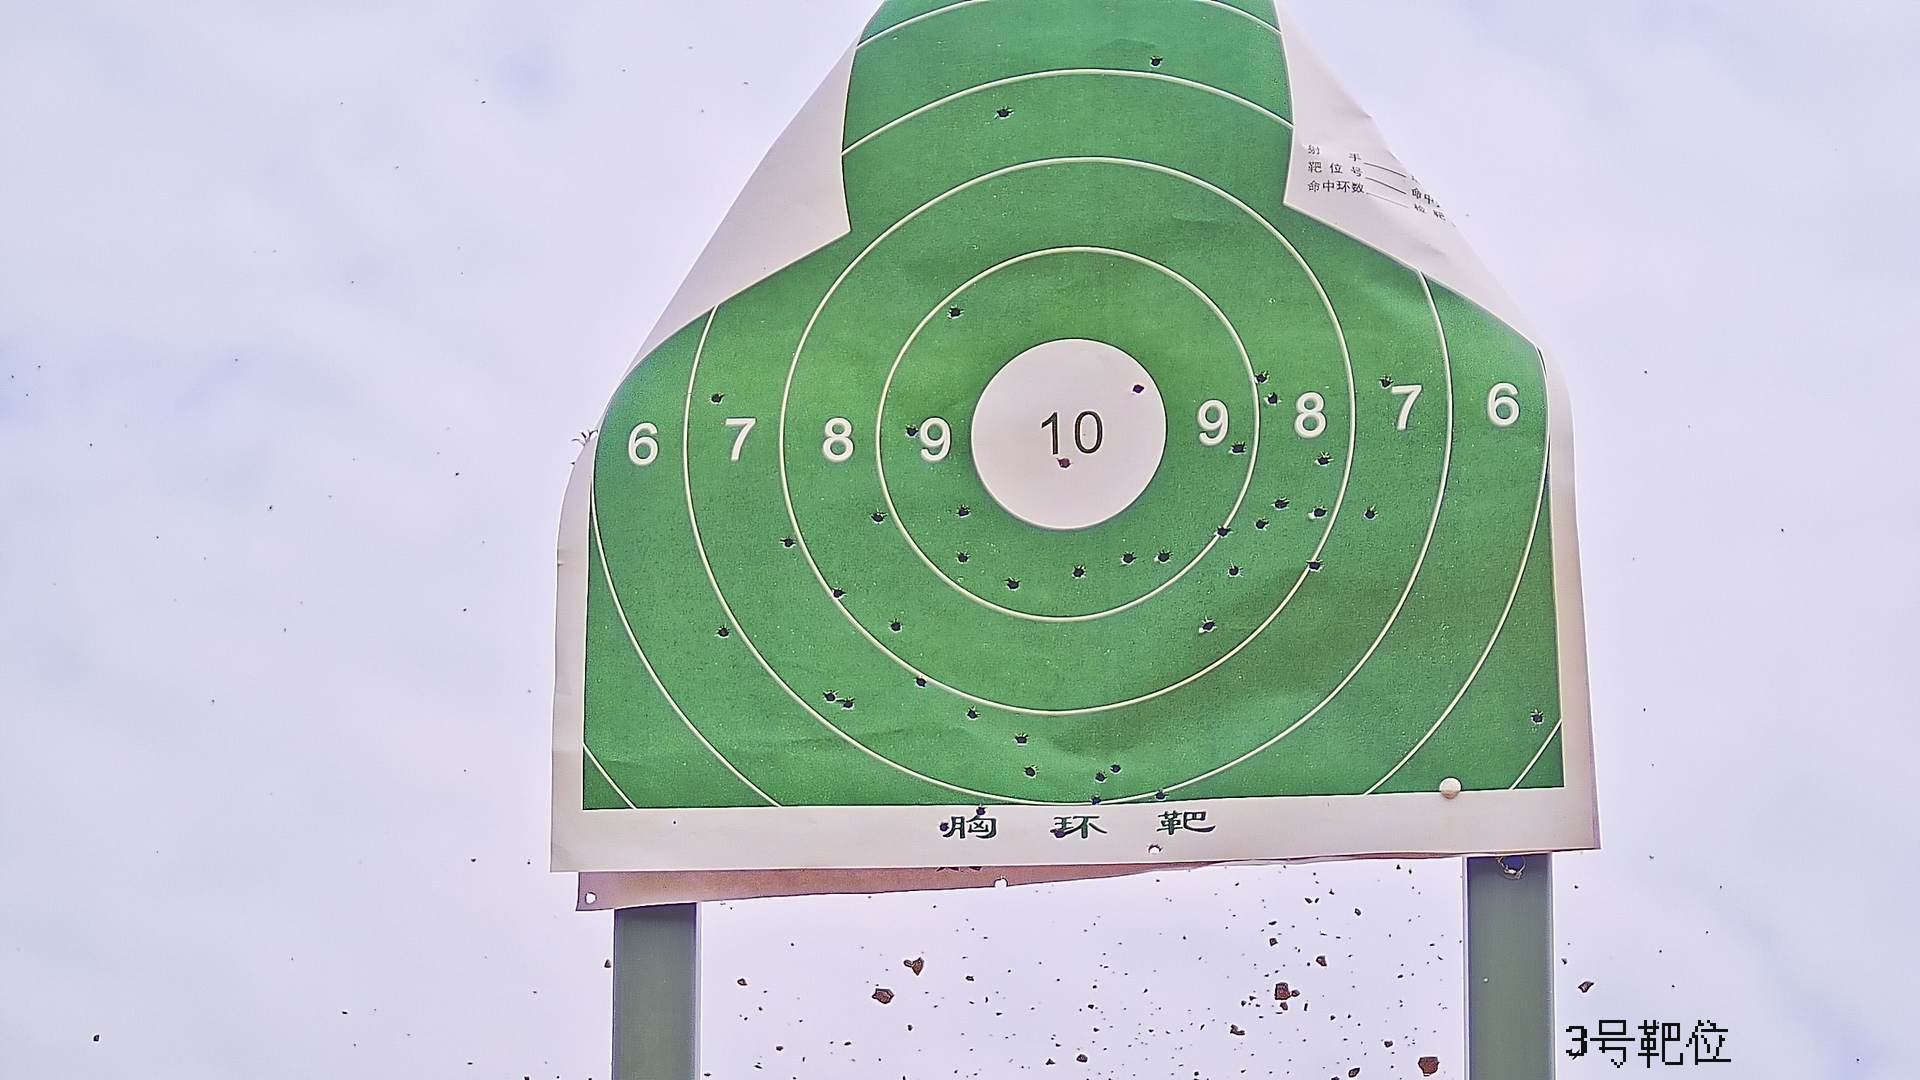hole: (1200, 618, 1217, 636), (1305, 559, 1325, 572), (1251, 371, 1273, 382), (1226, 563, 1242, 579), (1215, 524, 1230, 539), (1071, 564, 1087, 580), (781, 534, 796, 550), (1229, 440, 1244, 458), (1312, 505, 1327, 522), (1155, 549, 1172, 563), (994, 105, 1013, 119), (1149, 54, 1163, 70), (1274, 497, 1288, 513), (1120, 551, 1135, 566), (1058, 455, 1073, 469), (903, 423, 918, 439), (822, 690, 837, 704), (1263, 392, 1280, 405), (1110, 761, 1124, 775), (1054, 825, 1067, 840), (889, 617, 902, 632), (914, 675, 928, 688), (831, 587, 845, 600), (1530, 708, 1542, 724), (1095, 769, 1106, 785), (1255, 516, 1266, 533), (1025, 765, 1038, 778), (1015, 731, 1029, 744), (957, 505, 971, 518), (717, 625, 731, 638), (947, 305, 959, 319), (1378, 376, 1393, 388), (1007, 576, 1019, 591), (872, 509, 884, 524), (1317, 454, 1329, 467), (1364, 508, 1377, 520), (1147, 845, 1160, 857), (956, 550, 969, 562), (709, 392, 723, 404), (1154, 790, 1168, 800), (967, 707, 978, 719), (843, 698, 855, 709), (1133, 381, 1143, 394), (1091, 793, 1100, 807), (975, 804, 986, 814), (938, 820, 949, 829)
kernel: (1065, 433, 1067, 434)
target: (580, 5, 1567, 814)
ten: (968, 336, 1168, 533)
